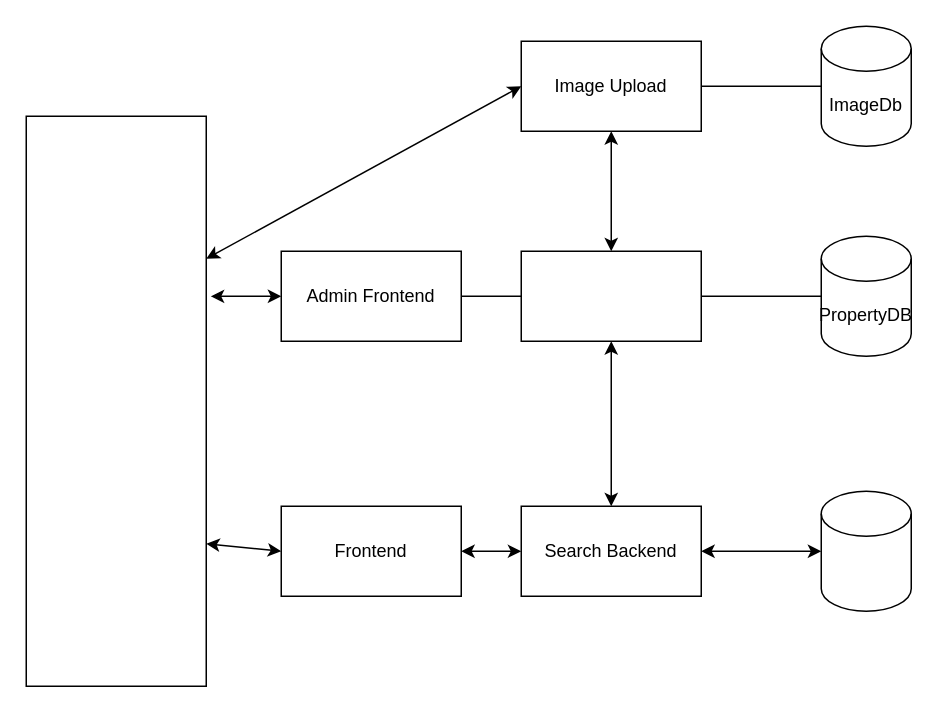
The diagram is 939 pixels wide and 713 high, and some of its shapes have lost their labels. The shapes that lost their labels are listed below. From the top down, each one's centre as x and y in pixels, then its label:
At (610,295): "Admin Backend".
At (115,400): "Nginx".
At (865,550): "Elastic Search".
